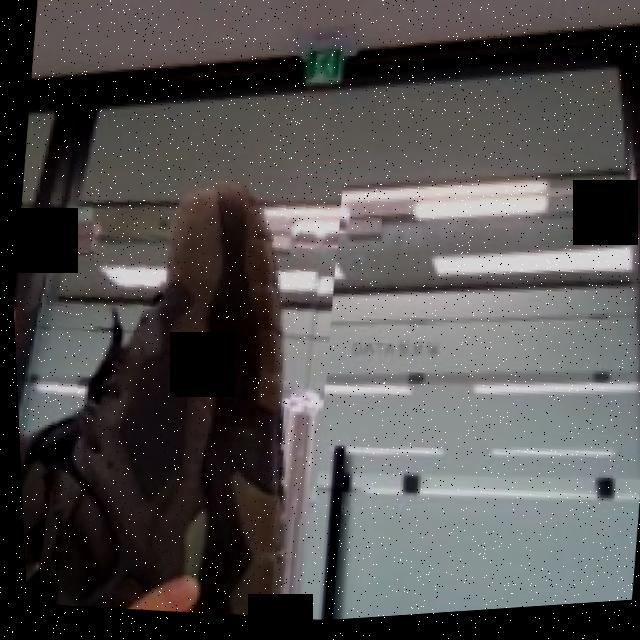shoe: (5, 133, 357, 636)
